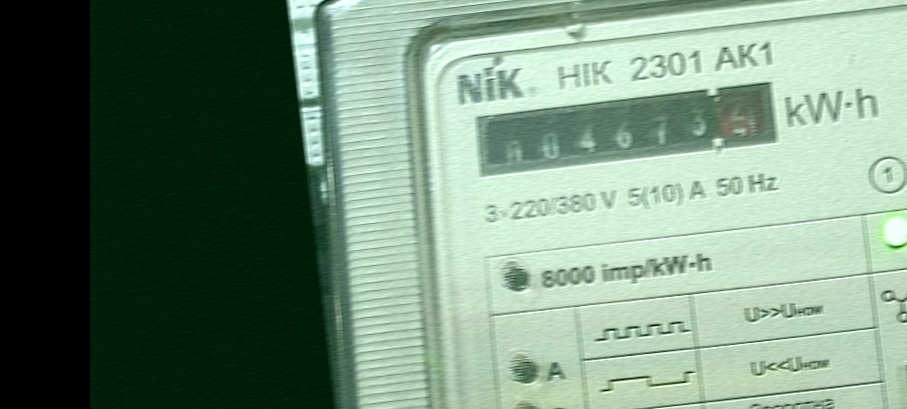0: (504, 136, 527, 169), (541, 130, 563, 163)
2: (727, 92, 751, 126)
3: (690, 106, 710, 142)
4: (579, 122, 601, 159)
6: (612, 118, 637, 154)
7: (650, 113, 676, 152)
screen: (471, 78, 786, 189)
